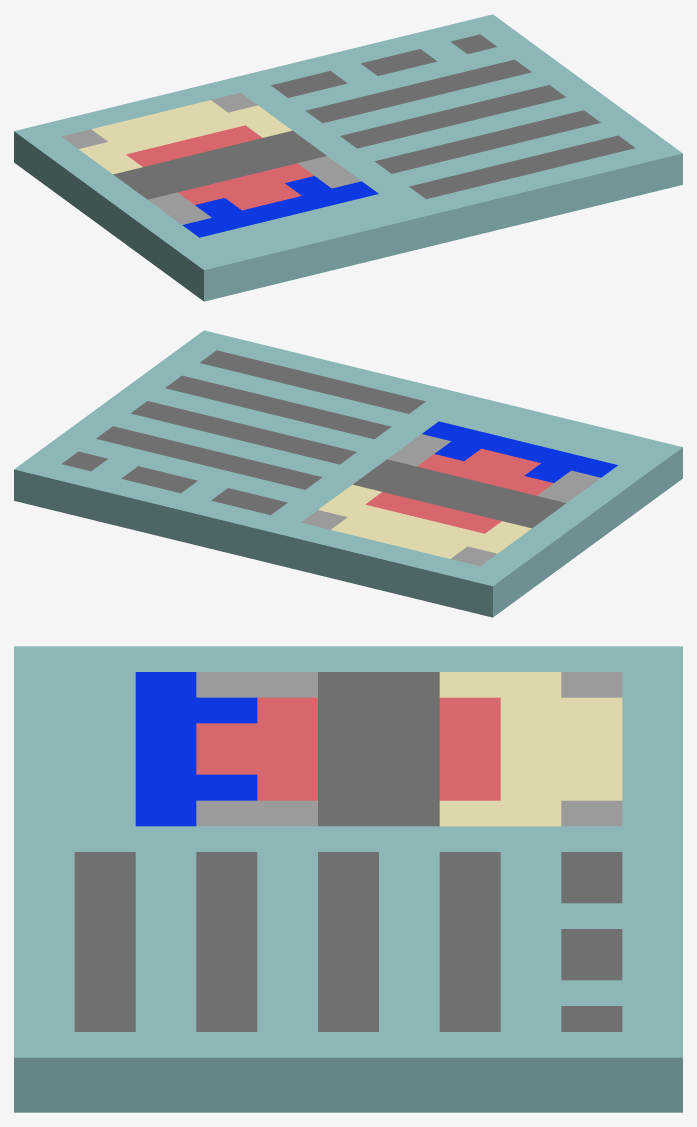
The model's file is Voxel Universe Objects-13.obj.
The picture shows the model from 3 angles, top to bottom: view 1: azimuth 30°, elevation 25°; view 2: azimuth 150°, elevation 25°; view 3: azimuth 270°, elevation 25°; orthographic projection. The views are drawn at different scales.
Size of the model in its own units: 1.6 by 0.1 by 1.1.
1 material, 1 textured.
